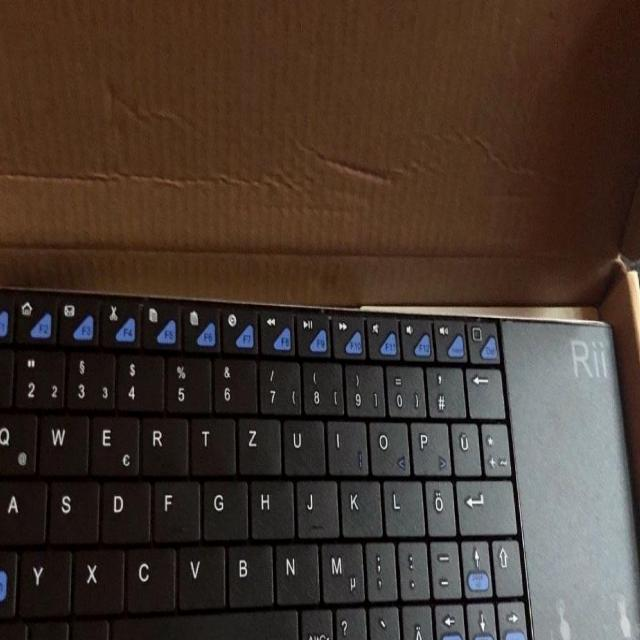0: (383, 360, 423, 415)
1: (0, 345, 20, 406)
2: (14, 346, 65, 407)
3: (65, 347, 115, 408)
4: (116, 349, 163, 409)
5: (164, 352, 210, 410)
6: (212, 354, 256, 412)
7: (257, 356, 299, 413)
8: (300, 357, 341, 413)
9: (343, 359, 383, 415)
a: (0, 477, 46, 543)
accent: (367, 602, 401, 640)
ae: (401, 605, 433, 640)
alt-left: (70, 616, 108, 640)
altgr-right: (299, 602, 333, 640)
b: (225, 540, 272, 606)
c: (123, 544, 175, 612)
caret: (0, 343, 16, 404)
comma: (363, 536, 395, 598)
d: (99, 476, 149, 542)
del: (464, 362, 503, 416)
e: (88, 412, 139, 476)
enter: (455, 474, 516, 533)
f: (151, 476, 198, 540)
g: (200, 476, 246, 538)
h: (248, 476, 292, 537)
hash: (425, 361, 463, 416)
i: (325, 415, 365, 472)
j: (294, 475, 337, 536)
k: (338, 475, 380, 535)
keyboard: (0, 271, 640, 640)
l: (381, 475, 422, 534)
m: (318, 537, 363, 601)
minus: (428, 535, 460, 597)
n: (272, 538, 318, 602)
o: (366, 416, 408, 473)
oe: (423, 475, 454, 534)
p: (408, 416, 449, 473)
plus: (479, 418, 509, 473)
point: (395, 536, 427, 597)
q: (1, 410, 37, 474)
r: (138, 413, 187, 474)
s: (46, 478, 98, 542)
shift-left: (0, 547, 24, 619)
shift-lock: (0, 475, 33, 545)
shift-right: (491, 537, 523, 599)
space: (110, 606, 298, 640)
ss: (333, 602, 367, 640)
strg-left: (0, 618, 26, 640)
t: (188, 413, 234, 474)
tab: (0, 405, 29, 475)
u: (280, 414, 323, 475)
ue: (449, 417, 479, 474)
v: (176, 540, 224, 608)
w: (36, 411, 87, 475)
x: (71, 546, 123, 614)
y: (17, 548, 69, 616)
z: (236, 413, 280, 473)
